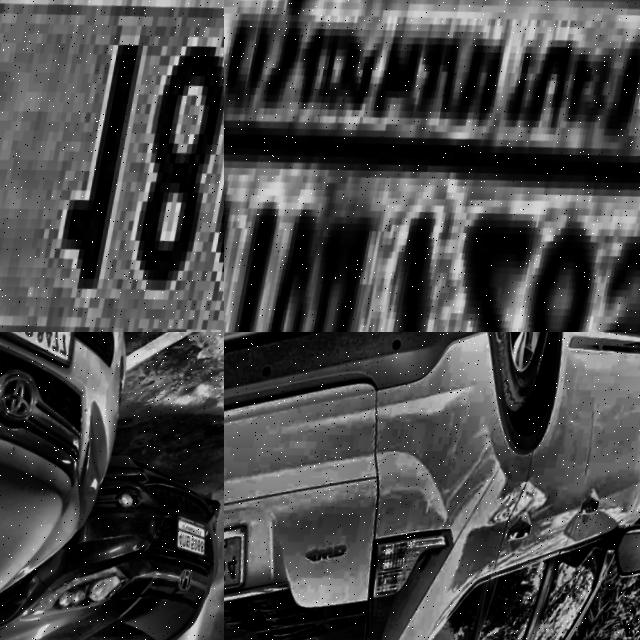license-plate: (224, 0, 640, 332), (0, 0, 224, 332), (0, 332, 96, 379), (224, 516, 262, 621), (182, 519, 224, 566)
